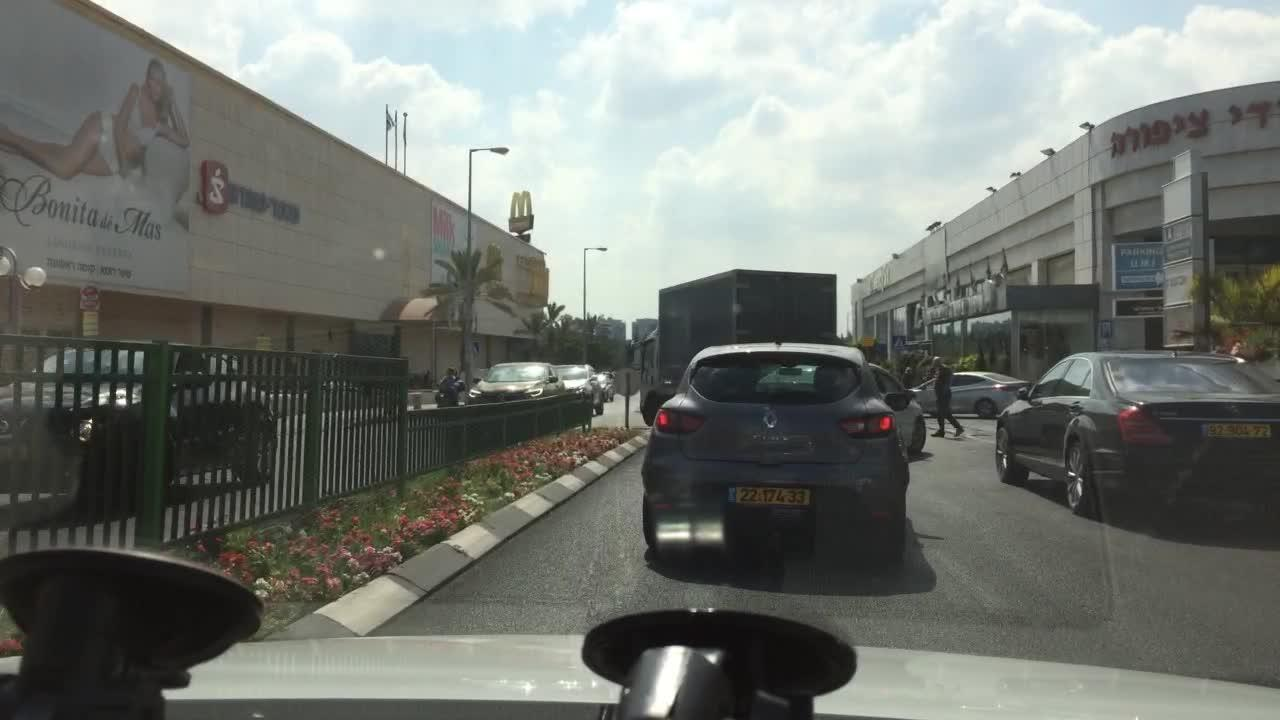Renault: (757, 404, 783, 432)
